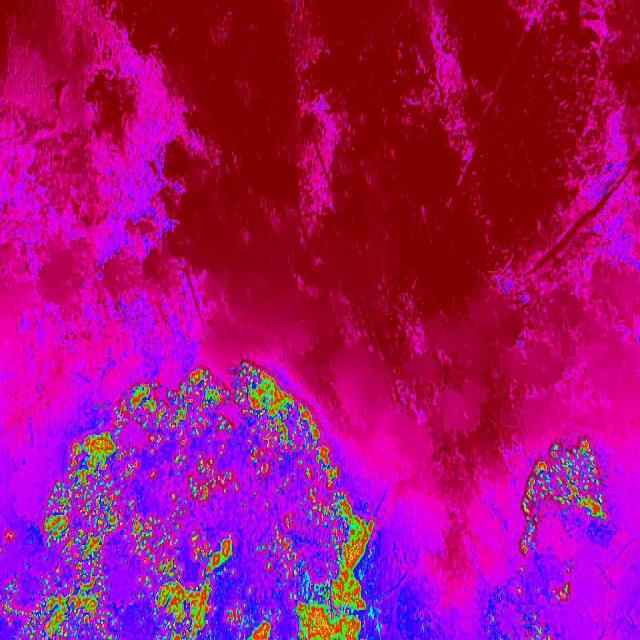fire: (0, 511, 379, 640), (46, 441, 352, 511), (522, 440, 608, 520), (80, 416, 322, 442), (112, 383, 294, 415), (230, 359, 276, 383), (516, 522, 538, 559), (520, 614, 550, 640), (182, 365, 214, 383), (545, 584, 573, 602), (294, 402, 312, 417)
